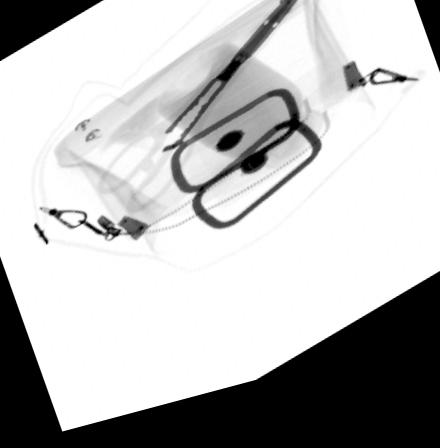Scissors: (90, 0, 307, 223)
